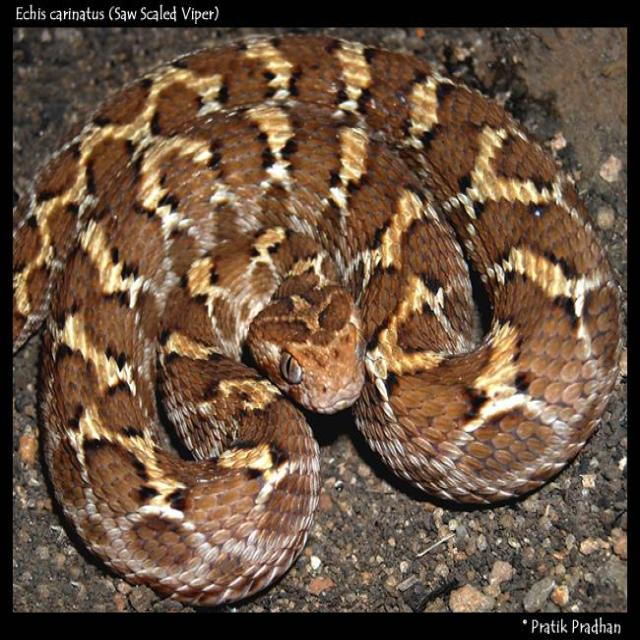Snake: (12, 31, 622, 608)
